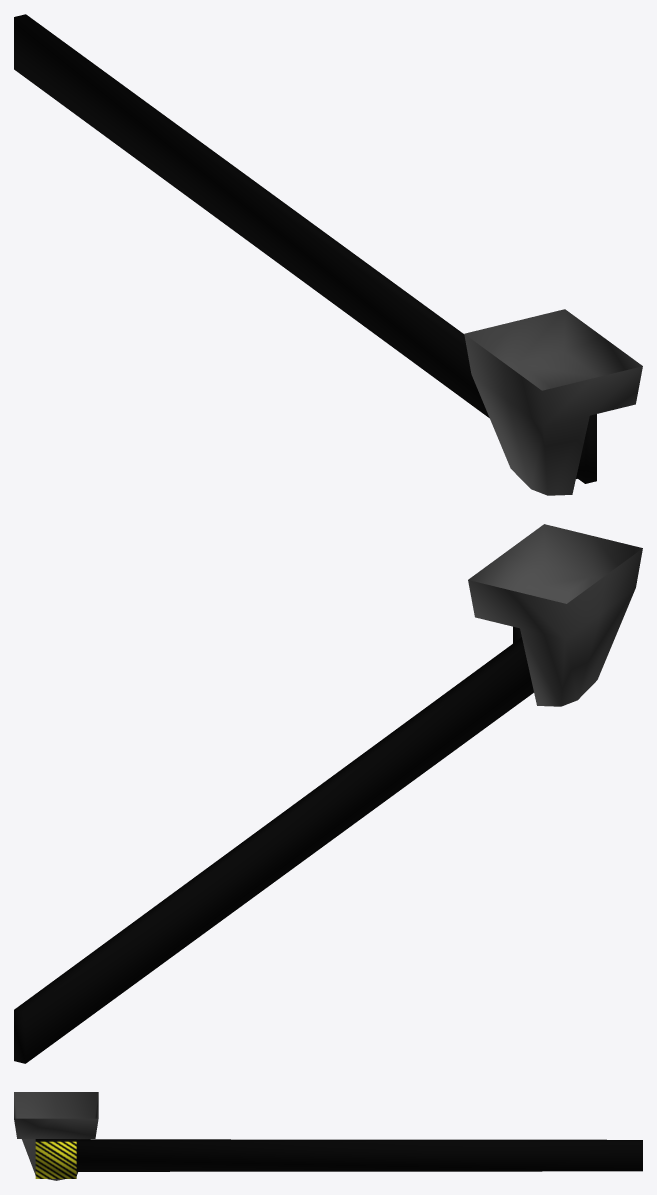
The model's file is loquet.fbx.
3 views of the same model, one above another, from view 1: azimuth 30°, elevation 25°; view 2: azimuth 150°, elevation 25°; view 3: azimuth 270°, elevation 25° (orthographic). The views are drawn at different scales.
Visible parts, largest first — view 1: loquet, base, bouton; view 2: loquet, base; view 3: loquet, base, bouton.
Part boxes in pixels (<box>): loquet: <box>14,14,585,478</box>; base: <box>464,309,642,495</box>; bouton: <box>578,414,596,483</box>; loquet: <box>14,637,533,1063</box>; base: <box>468,524,642,706</box>; loquet: <box>76,1139,642,1171</box>; base: <box>14,1092,98,1180</box>; bouton: <box>35,1139,76,1178</box>.
Size of the model in its own units: 1.14 by 11.33 by 1.5.
1 material, 1 textured.
